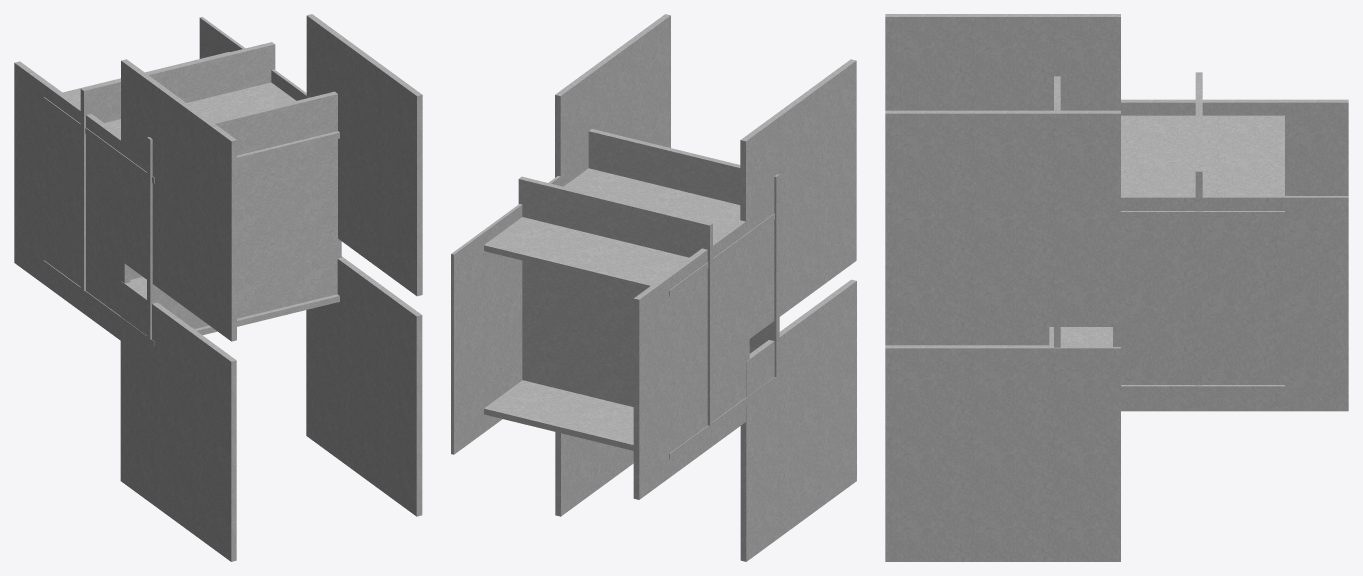
The model's file is Habitacion.fbx.
3 views of the same model, side by side, from view 1: azimuth 30°, elevation 25°; view 2: azimuth 150°, elevation 25°; view 3: azimuth 270°, elevation 25° (orthographic). The views are drawn at different scales.
Visible parts, largest first — view 1: Pared__15_, Pared__14_, Pared__12_, Pared__18_, Pared__16_, Pared__17_, Pared__12__1, Pared__13_, Pared__12__2, Pared__19_; view 2: Pared__15_, Pared__14_, Pared__12__1, Pared__16_, Pared__19_, Pared__13_, Pared__17_, Pared__12_, Pared__12__2, Pared__18_; view 3: Pared__17_, Pared__18_, Pared__19_, Pared__14_, Pared__13_, Pared__16_, Pared__15_, Pared__12__1, Pared__12__2.
Boxes of the visible parts, left/top/right/bottom form: Pared__15_: left=120, top=281, right=236, bottom=561; Pared__14_: left=121, top=59, right=236, bottom=341; Pared__12_: left=147, top=91, right=341, bottom=339; Pared__18_: left=306, top=256, right=422, bottom=516; Pared__16_: left=14, top=61, right=130, bottom=340; Pared__17_: left=306, top=14, right=422, bottom=296; Pared__12__1: left=80, top=42, right=275, bottom=290; Pared__13_: left=43, top=52, right=339, bottom=183; Pared__12__2: left=43, top=260, right=339, bottom=346; Pared__19_: left=199, top=17, right=308, bottom=100; Pared__15_: left=740, top=279, right=856, bottom=561; Pared__14_: left=740, top=59, right=856, bottom=341; Pared__12__1: left=518, top=176, right=712, bottom=425; Pared__16_: left=633, top=220, right=749, bottom=499; Pared__19_: left=451, top=174, right=564, bottom=454; Pared__13_: left=484, top=168, right=780, bottom=296; Pared__17_: left=555, top=14, right=670, bottom=185; Pared__12_: left=588, top=129, right=779, bottom=376; Pared__12__2: left=484, top=373, right=780, bottom=459; Pared__18_: left=555, top=432, right=633, bottom=516; Pared__17_: left=885, top=110, right=1120, bottom=326; Pared__18_: left=885, top=345, right=1120, bottom=561; Pared__19_: left=1113, top=196, right=1348, bottom=411; Pared__14_: left=885, top=14, right=1120, bottom=110; Pared__13_: left=1121, top=115, right=1284, bottom=218; Pared__16_: left=1113, top=99, right=1348, bottom=195; Pared__15_: left=885, top=327, right=1049, bottom=345; Pared__12__1: left=1195, top=72, right=1202, bottom=385; Pared__12__2: left=1049, top=327, right=1284, bottom=392.
Size of the model in its own units: 67.29 by 140 by 131.
1 material, 1 textured.
